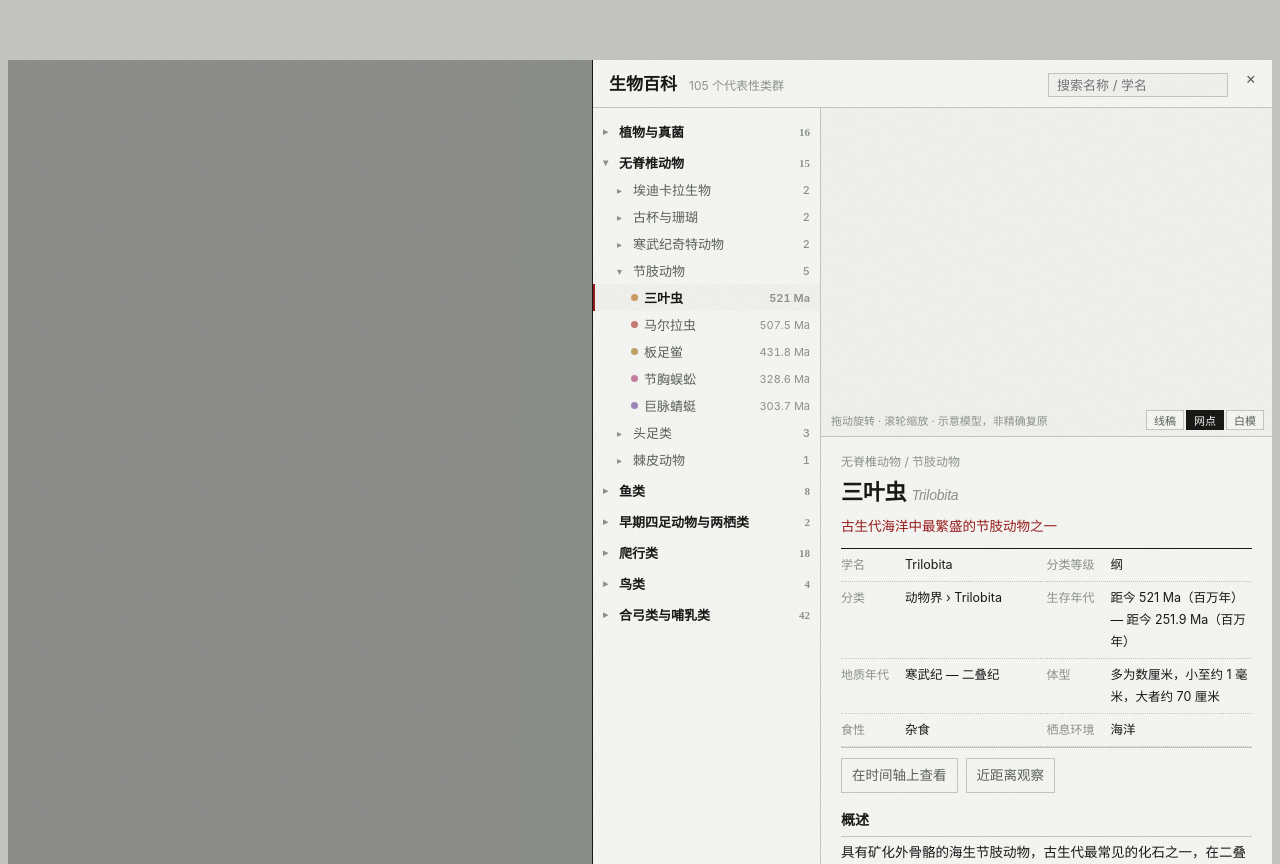
it: WikiDrawer › shows a structured article for the species picked in the tree
// 所在分支自动展开
Click the button with test id "wiki-node-reptiles": (706, 552) [593,539,820,566]
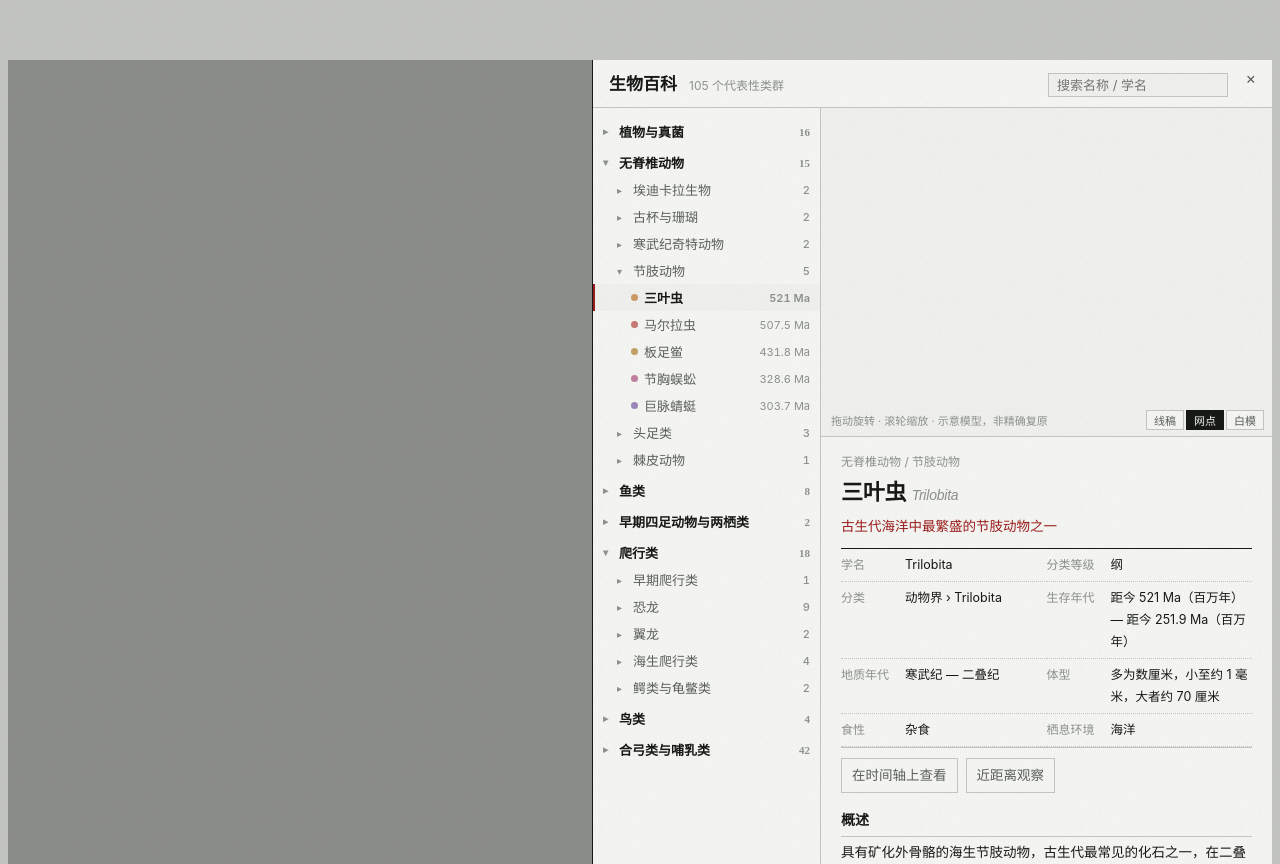
Click the button with test id "wiki-node-dinosaurs": (706, 606) [593,593,820,620]
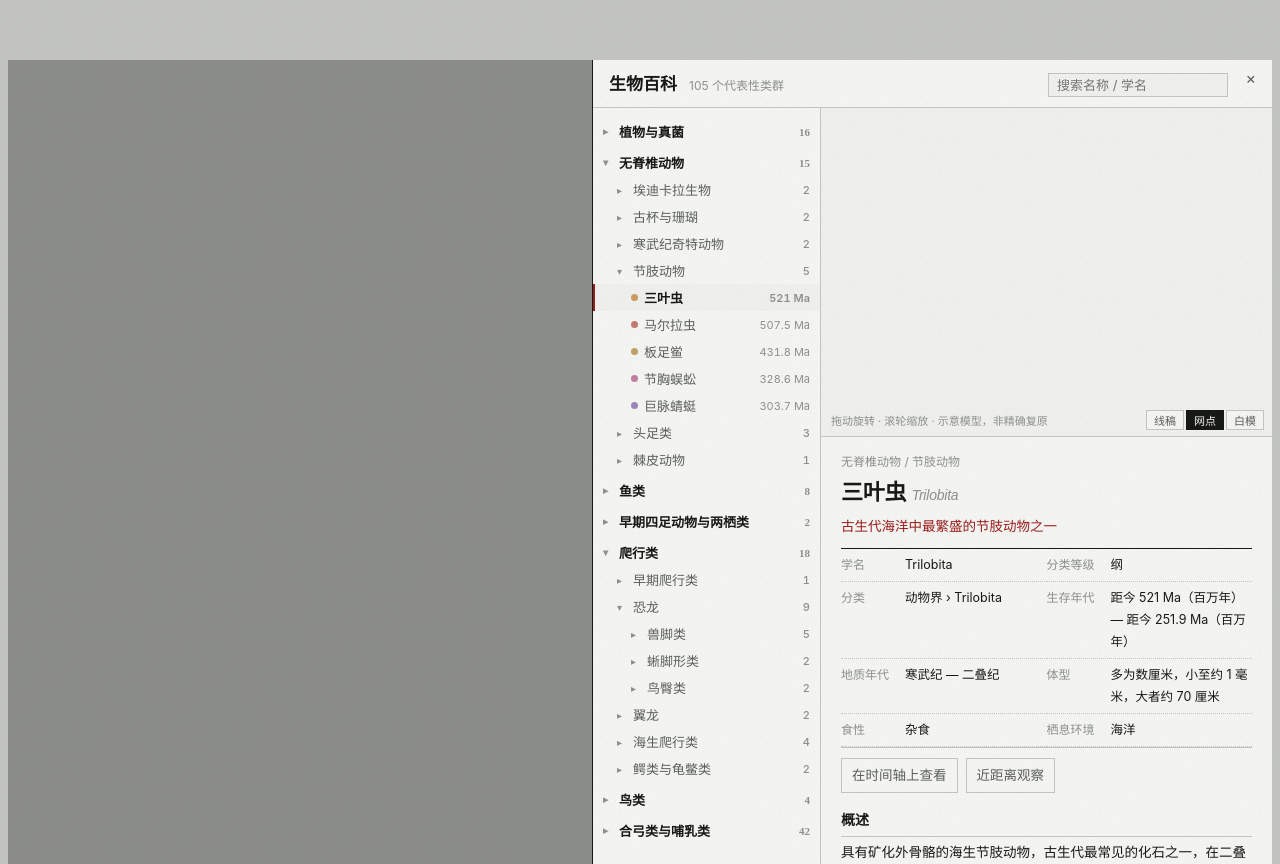
Click the button with test id "wiki-node-theropods": (706, 634) [593,620,820,647]
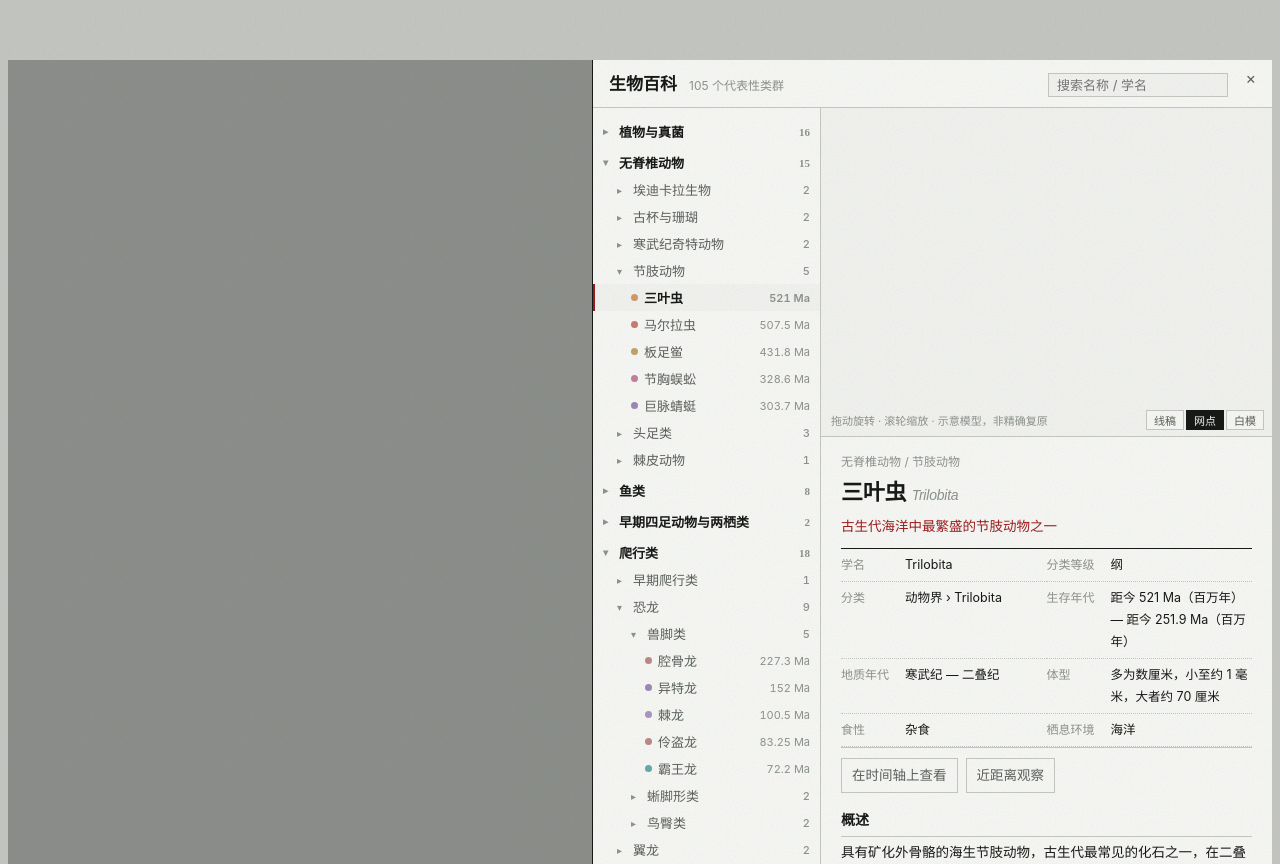
Click the button with test id "wiki-species-tyrannosaurus-rex": (706, 768) [593,755,820,782]
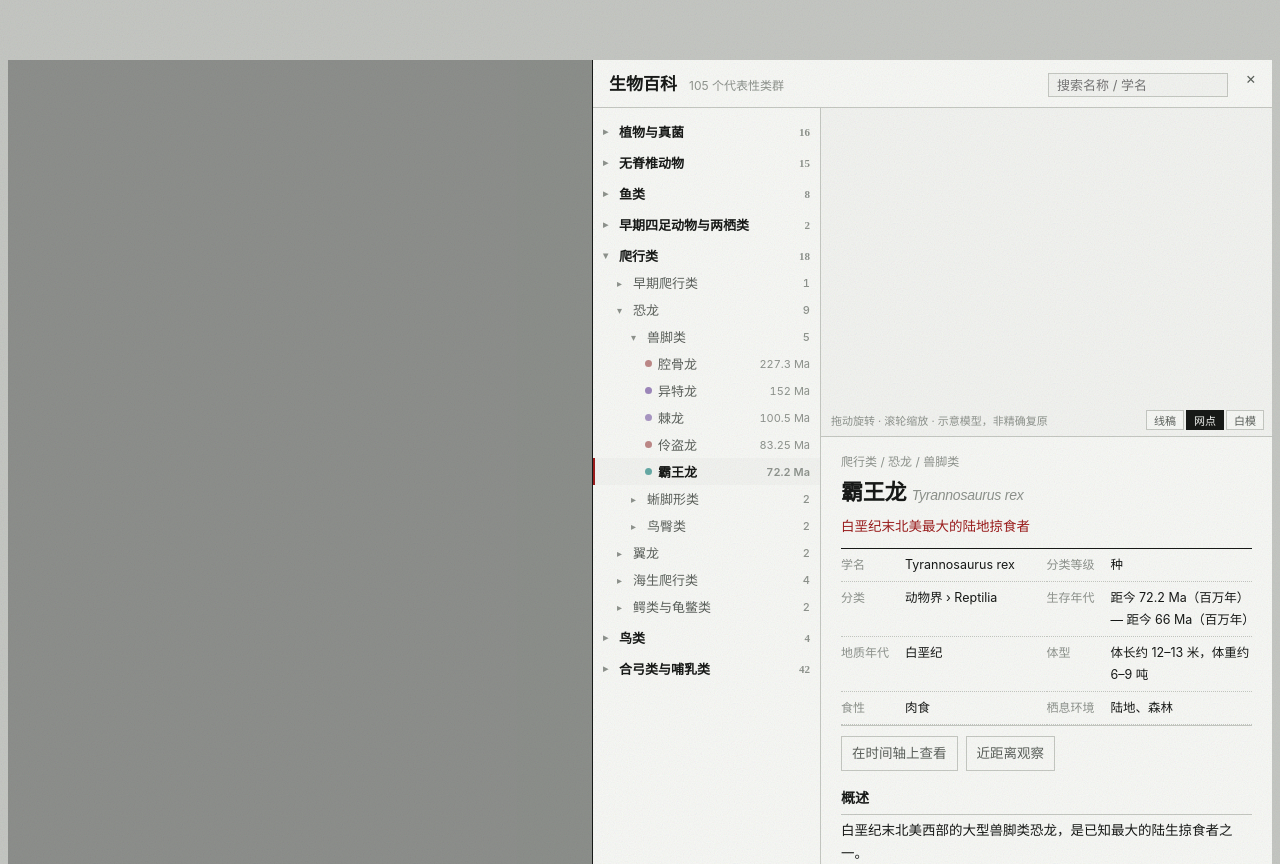
Now the element with test id "wiki-article" shows "爬行类 / 恐龙 / 兽脚类", box [841,454,959,469]
Now the text "Tyrannosaurus rex" next to "学名" is shown, box [905,557,1015,572]
Now the text "白垩纪" is shown, box [905,645,942,660]
